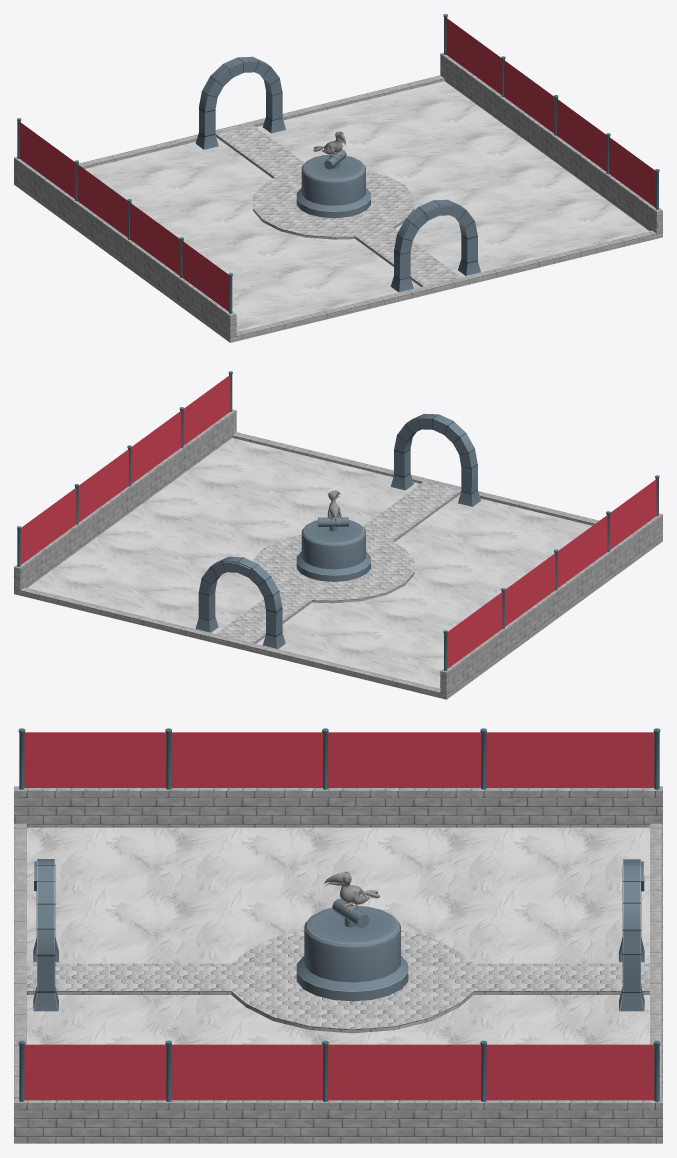
Rendered from Parque.FBX.
3 renders of one model, top to bottom at view 1: azimuth 30°, elevation 25°; view 2: azimuth 150°, elevation 25°; view 3: azimuth 270°, elevation 25°, orthographic. The views are drawn at different scales.
Parts seen in each view (by area): view 1: Estructura, Malla; view 2: Estructura, Malla; view 3: Estructura, Malla, Estatua.
Part boxes in pixels (x1=…): Estructura: x1=14, y1=52, x2=662, y2=342; Malla: x1=17, y1=14, x2=659, y2=313; Estructura: x1=14, y1=409, x2=662, y2=699; Malla: x1=17, y1=371, x2=659, y2=670; Estructura: x1=14, y1=786, x2=662, y2=1143; Malla: x1=18, y1=728, x2=660, y2=1101; Estatua: x1=324, y1=871, x2=379, y2=914.
Bounding box in the file's own units: 2557 × 2215 × 451.
